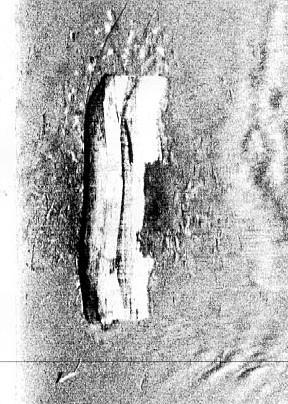ship: (75, 71, 169, 330)
